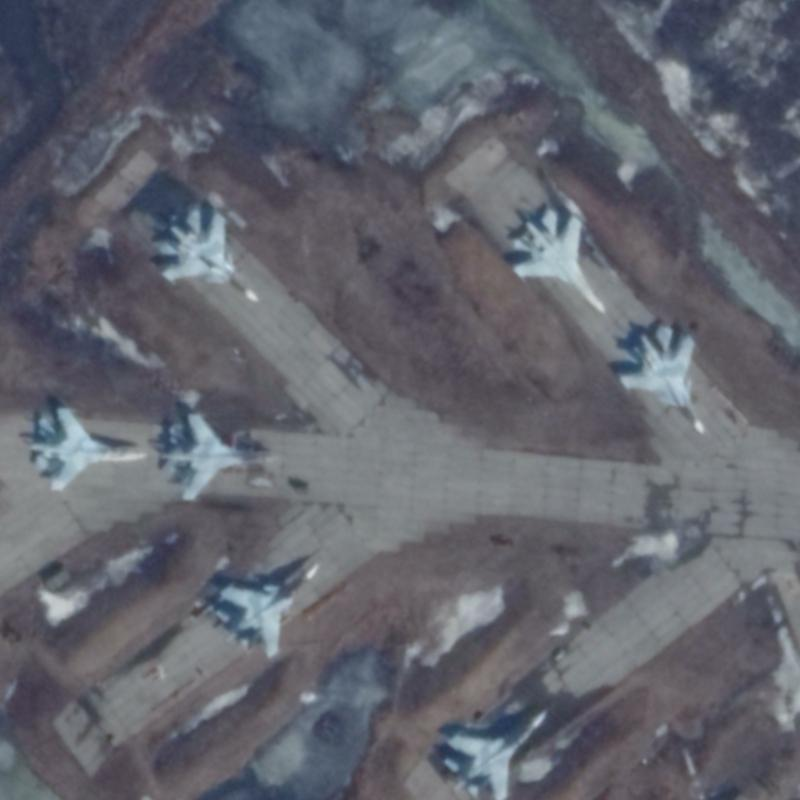A1: (154, 409, 281, 503), (26, 404, 149, 493), (509, 204, 605, 315), (439, 706, 549, 799)
A19: (153, 204, 266, 305), (210, 559, 319, 658), (617, 322, 709, 438)
